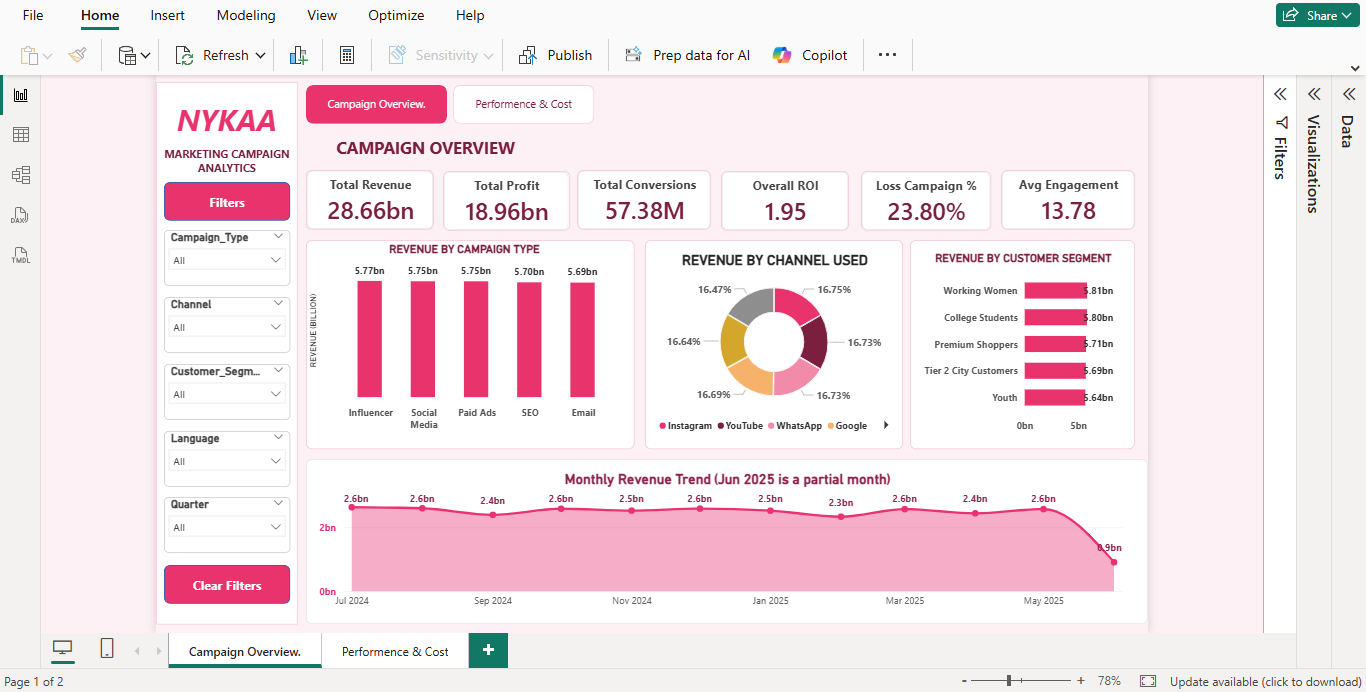

The page's visual inventory and layout, read from the dashboard file:
{"tool":"powerbi","page":{"name":"Campaign Overview.","canvas":[1280,720],"ordinal":0},"visuals":[{"type":"shape","box":[0,8.5,182.8,700.2],"z":0},{"type":"textbox","box":[0,32.6,182.8,59.5],"z":1000},{"type":"textbox","box":[0,92.1,182.8,45.4],"z":2000},{"type":"shape","box":[9.9,137.5,163,50],"z":3000},{"type":"slicer","fields":{"Values":["campaigns.Campaign_Type"]},"box":[9.9,199.8,163,72.3],"z":4000},{"type":"slicer","fields":{"Values":["campaigns.Year_Month.Variation.Date Hierarchy.Quarter"]},"box":[9.9,544.3,163,72.3],"z":5000},{"type":"slicer","fields":{"Values":["campaigns.Language"]},"box":[9.9,459.2,163,72.3],"z":6000},{"type":"slicer","fields":{"Values":["campaigns.Customer_Segment"]},"box":[9.9,372.8,163,72.3],"z":7000},{"type":"slicer","fields":{"Values":["channel.Channel"]},"box":[9.9,286.3,163,72.3],"z":8000},{"type":"shape","box":[9.9,632.1,163,50],"z":9000},{"type":"pageNavigator","box":[194.2,12.8,372,50],"z":10000},{"type":"textbox","box":[194.1,78.5,308.3,35.8],"z":11000},{"type":"cardVisual","fields":{"Data":["campaigns.Total Revenue"]},"box":[194.1,122.5,165.2,77.1],"z":12000},{"type":"cardVisual","fields":{"Data":["campaigns.Total Profit"]},"box":[370.2,123.9,163.8,77.1],"z":13000},{"type":"cardVisual","fields":{"Data":["campaigns.Total Conversions"]},"box":[543.7,122.5,173.4,77.1],"z":14000},{"type":"cardVisual","fields":{"Data":["campaigns.Overall ROI"]},"box":[729.5,123.9,165.2,77.1],"z":15000},{"type":"cardVisual","fields":{"Data":["campaigns.Loss Campaign %"]},"box":[909.8,123.9,167.9,77.1],"z":16000},{"type":"cardVisual","fields":{"Data":["campaigns.Avg Engagement"]},"box":[1090.1,122.5,173.4,77.1],"z":17000},{"type":"clusteredColumnChart","title":"REVENUE BY CAMPAIGN TYPE","fields":{"Category":["campaigns.Campaign_Type"],"Y":["campaigns.Total Revenue"]},"box":[194.1,213.3,423.9,269.8],"z":18000},{"type":"donutChart","title":"REVENUE BY CHANNEL USED","fields":{"Category":["channel.Channel"],"Y":["campaigns.Channel Revenue"]},"box":[630.4,213.3,333.1,269.8],"z":19000},{"type":"clusteredBarChart","title":"REVENUE BY CUSTOMER SEGMENT","fields":{"Category":["campaigns.Customer_Segment"],"Y":["campaigns.Total Revenue"]},"box":[973.1,213.3,290.4,269.8],"z":20000},{"type":"areaChart","title":"MONTHLY REVENUE TREND (Jun 2025 is a partial month)","fields":{"Category":["campaigns.Year_Month"],"Y":["campaigns.Total Revenue"]},"box":[194.2,496.1,1068.7,212.6],"z":20001}]}

Visuals, with their boxes on the page's 1280x720 design canvas (x1, y1, x2, y2). These are canvas units, not pixel positions in the 1366x692 screenshot, which may show the page scaled, cropped or inside an application window:
shape: region(0, 8, 183, 709)
textbox: region(0, 33, 183, 92)
textbox: region(0, 92, 183, 138)
shape: region(10, 138, 173, 188)
slicer - campaigns.Campaign_Type: region(10, 200, 173, 272)
slicer - campaigns.Year_Month.Variation.Date Hierarchy.Quarter: region(10, 544, 173, 617)
slicer - campaigns.Language: region(10, 459, 173, 532)
slicer - campaigns.Customer_Segment: region(10, 373, 173, 445)
slicer - channel.Channel: region(10, 286, 173, 359)
shape: region(10, 632, 173, 682)
pageNavigator: region(194, 13, 566, 63)
textbox: region(194, 78, 502, 114)
cardVisual - campaigns.Total Revenue: region(194, 122, 359, 200)
cardVisual - campaigns.Total Profit: region(370, 124, 534, 201)
cardVisual - campaigns.Total Conversions: region(544, 122, 717, 200)
cardVisual - campaigns.Overall ROI: region(730, 124, 895, 201)
cardVisual - campaigns.Loss Campaign %: region(910, 124, 1078, 201)
cardVisual - campaigns.Avg Engagement: region(1090, 122, 1264, 200)
"REVENUE BY CAMPAIGN TYPE" clusteredColumnChart: region(194, 213, 618, 483)
"REVENUE BY CHANNEL USED" donutChart: region(630, 213, 964, 483)
"REVENUE BY CUSTOMER SEGMENT" clusteredBarChart: region(973, 213, 1264, 483)
"MONTHLY REVENUE TREND (Jun 2025 is a partial month)" areaChart: region(194, 496, 1263, 709)
